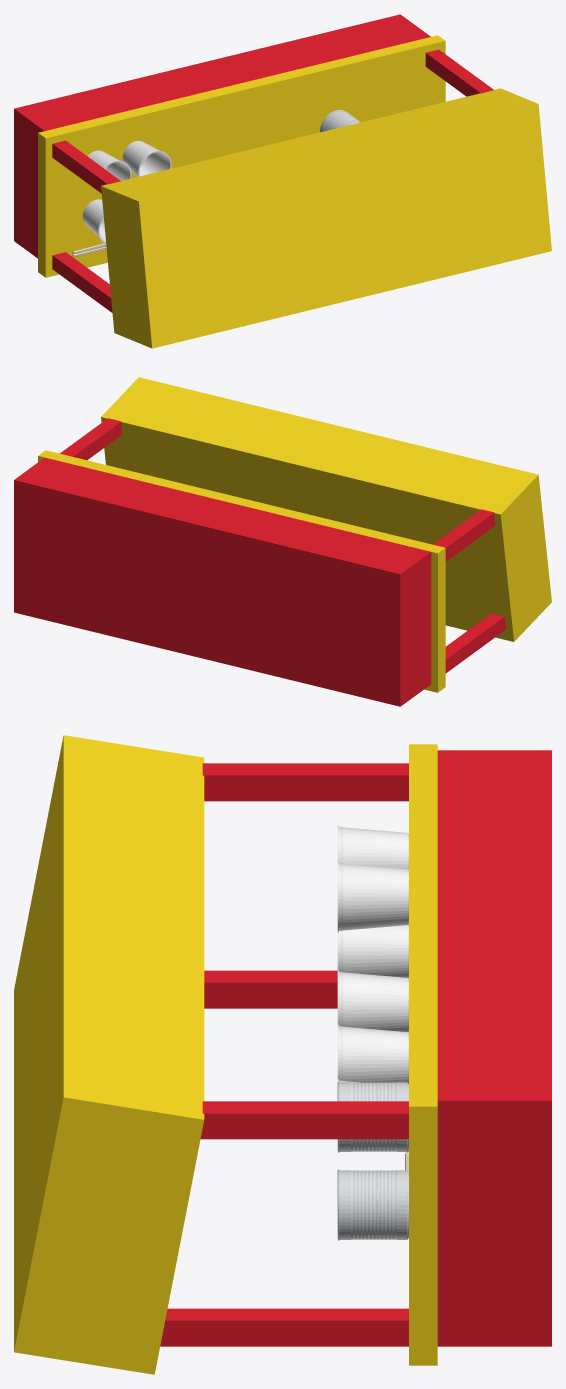
The model's file is Avater5.obj.
3 renders of one model, top to bottom at view 1: azimuth 30°, elevation 25°; view 2: azimuth 150°, elevation 25°; view 3: azimuth 270°, elevation 25°, orthographic. The views are drawn at different scales.
Parts seen in each view (by area): view 1: group_0_16768282, group_0_15277357, group_0_16448250, group_0_14541540; view 2: group_0_15277357, group_0_16768282; view 3: group_0_16768282, group_0_15277357, group_0_16448250, group_0_14541540.
Part boxes in pixels (bbox=[...]): group_0_16768282: bbox=[38, 35, 551, 348]; group_0_15277357: bbox=[14, 14, 494, 312]; group_0_16448250: bbox=[82, 140, 171, 243]; group_0_14541540: bbox=[320, 110, 360, 132]; group_0_15277357: bbox=[14, 418, 506, 706]; group_0_16768282: bbox=[38, 377, 551, 692]; group_0_16768282: bbox=[14, 735, 437, 1374]; group_0_15277357: bbox=[160, 750, 551, 1346]; group_0_16448250: bbox=[337, 825, 408, 1083]; group_0_14541540: bbox=[337, 1081, 408, 1240].
Size of the model in its own units: 60 by 21.43 by 37.66.
